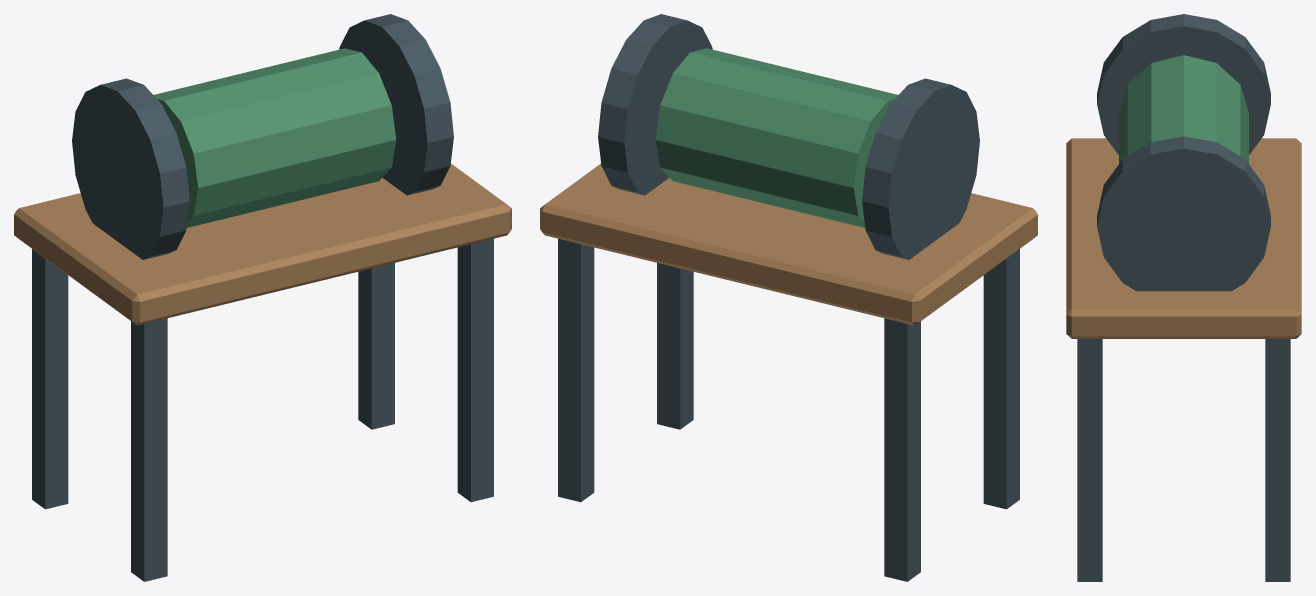
The model's file is bench_grinder.glb.
3 renders of one model, left to right at view 1: azimuth 30°, elevation 25°; view 2: azimuth 150°, elevation 25°; view 3: azimuth 270°, elevation 25°, orthographic. The views are drawn at different scales.
Visible parts, largest first — view 1: bench_grinder; view 2: bench_grinder; view 3: bench_grinder.
Part boxes in pixels (x1,y1,x2,y2): bench_grinder: (14,14,511,581); bench_grinder: (540,14,1037,581); bench_grinder: (1066,14,1301,581).
Bounding box in the file's own units: 1.15 × 1.28 × 0.65.
